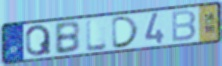4: (144, 12, 166, 46)
B: (53, 20, 82, 56), (170, 9, 198, 44)
D: (111, 14, 141, 50)
L: (85, 18, 109, 53)
Q: (24, 23, 53, 58)
